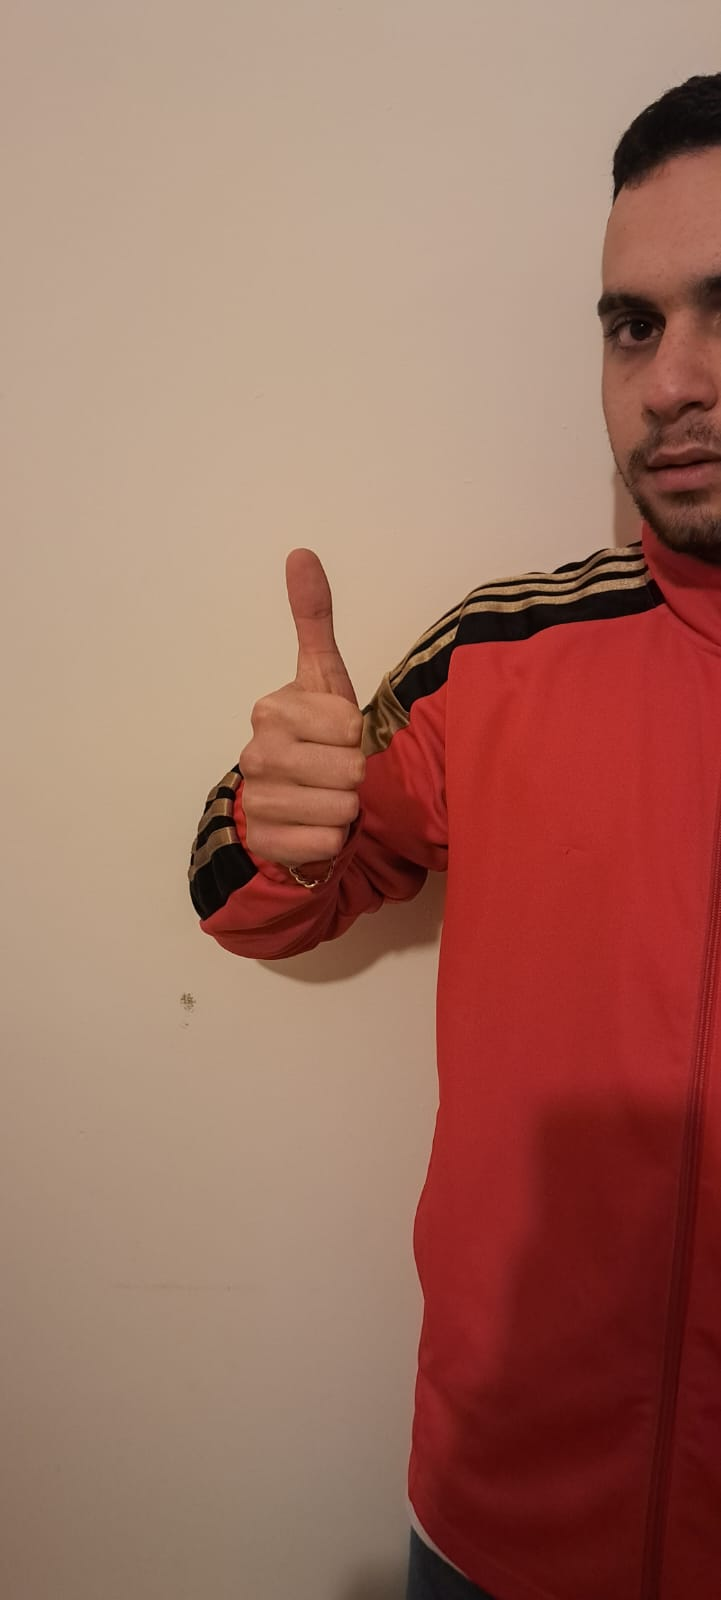okay: (235, 540, 375, 876)
